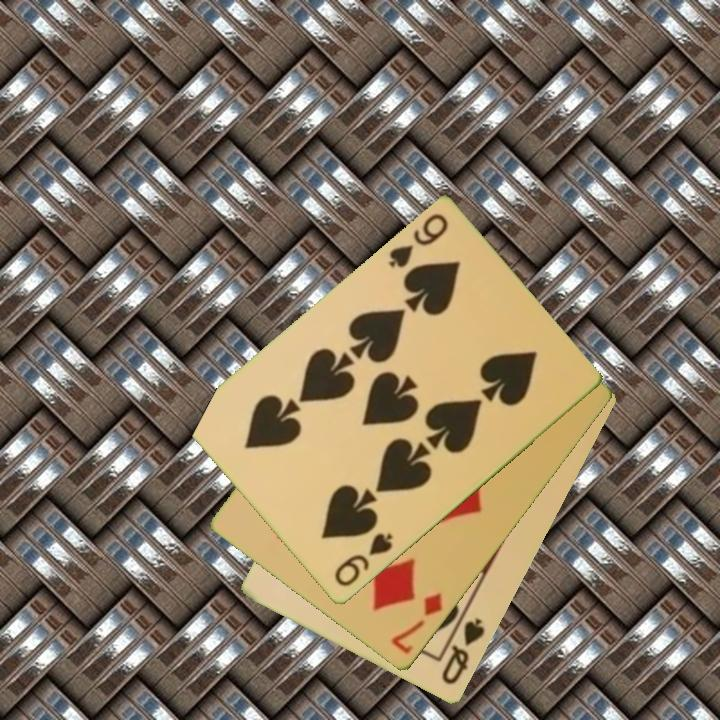7d: (387, 589, 446, 658)
9s: (385, 210, 451, 272), (331, 529, 396, 591)
Qs: (438, 615, 488, 689)
